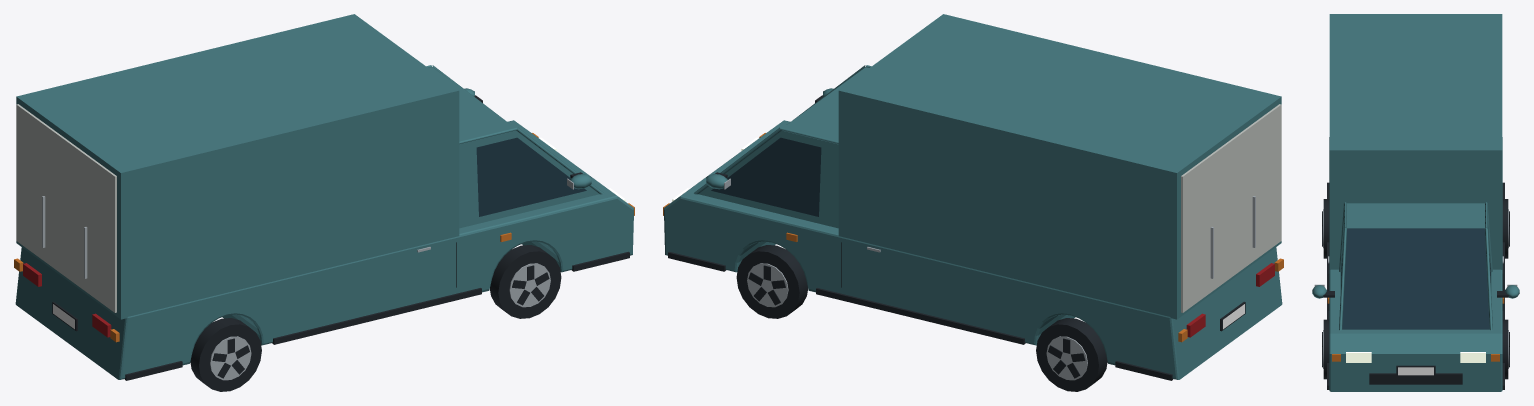
Rendered from box-near.glb.
3 views of the same model, side by side, from view 1: azimuth 30°, elevation 25°; view 2: azimuth 150°, elevation 25°; view 3: azimuth 270°, elevation 25° (orthographic). The views are drawn at different scales.
Parts seen in each view (by area): view 1: body_paint, body_cargo_door, wheel_surface (×2), body_glass, body_trim, body_brake; view 2: body_paint, body_cargo_door, wheel_surface (×2), body_glass, body_trim, body_brake; view 3: body_paint, body_glass, body_trim, wheel_surface (×4), body_headlamp, registration_text.
Boxes of the visible parts, <box> form: body_paint: <box>15,14,633,379</box>; body_cargo_door: <box>16,104,116,312</box>; wheel_surface (×2): <box>190,245,561,391</box>; body_glass: <box>476,137,586,216</box>; body_trim: <box>52,95,629,380</box>; body_brake: <box>23,263,111,337</box>; body_paint: <box>664,14,1282,379</box>; body_cargo_door: <box>1181,104,1281,312</box>; wheel_surface (×2): <box>736,245,1107,391</box>; body_glass: <box>711,137,821,216</box>; body_trim: <box>668,95,1245,380</box>; body_brake: <box>1186,263,1274,337</box>; body_paint: <box>1312,14,1519,391</box>; body_glass: <box>1341,228,1490,329</box>; body_trim: <box>1323,182,1508,389</box>; wheel_surface (×4): <box>1322,199,1509,379</box>; body_headlamp: <box>1346,352,1485,362</box>; registration_text: <box>1398,367,1433,375</box>.
Bounding box in the file's own units: 6.44 × 2.85 × 2.69.
